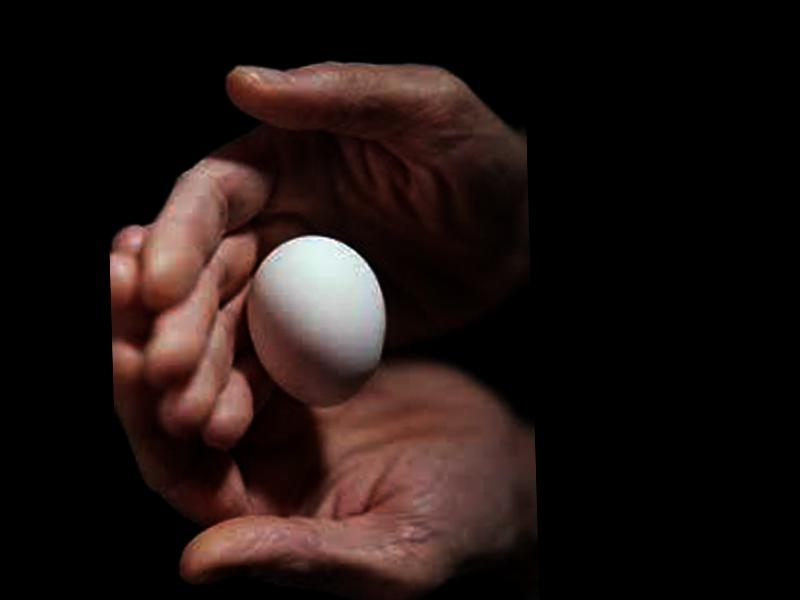Eggs: (245, 232, 389, 407)
